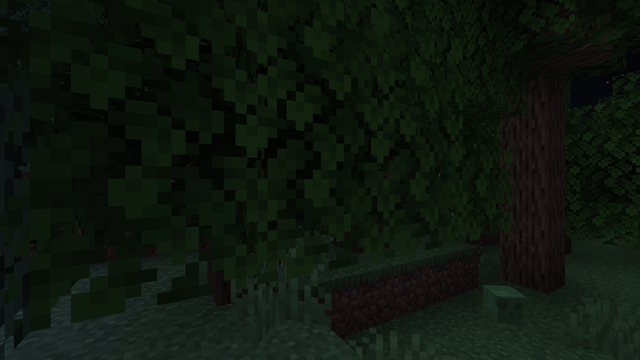slimes: (482, 282, 526, 327)
